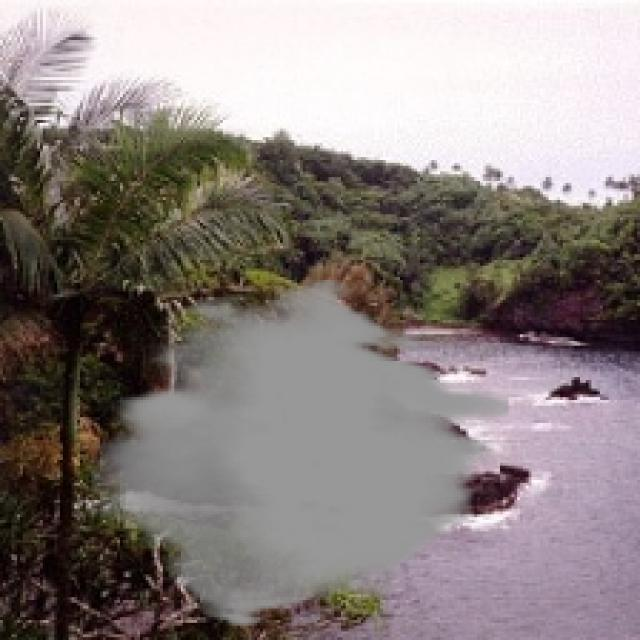Smoke: (91, 277, 508, 629)
